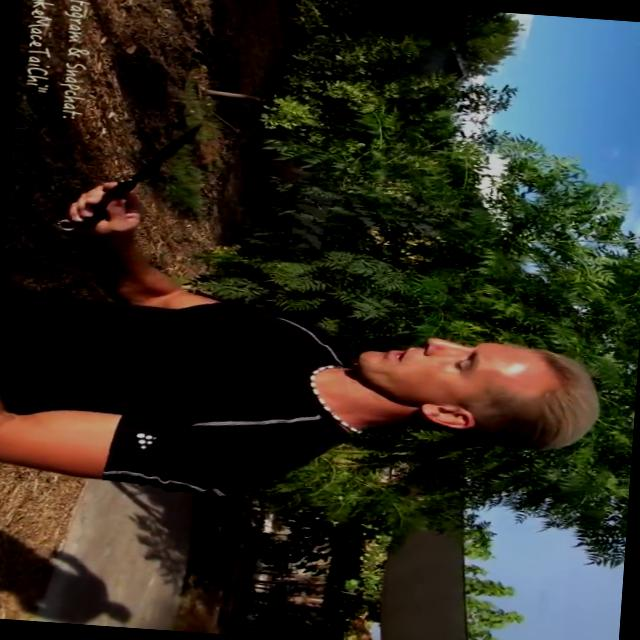knife: (48, 110, 212, 242)
